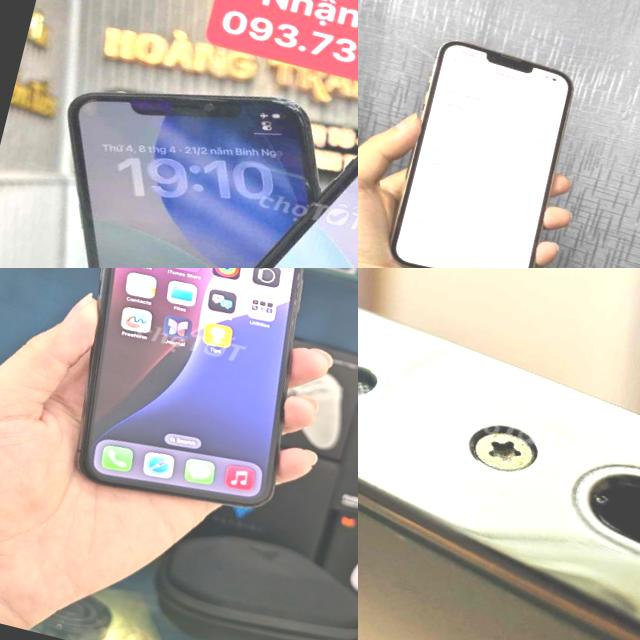gen_11: (110, 77, 358, 268)
gen_12_13: (358, 268, 640, 640), (372, 24, 585, 268)
gen_x_xs: (17, 268, 355, 541)
